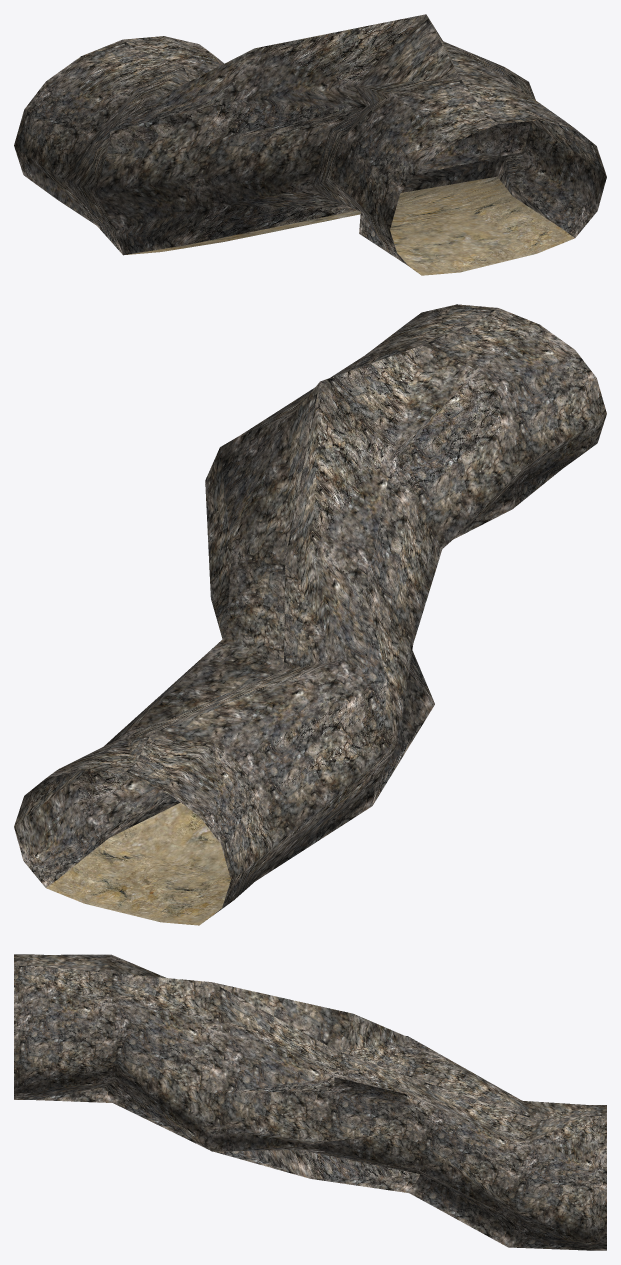
Rendered from pir_m_are_cav_hallNarrowAscend.fbx.
The picture shows the model from 3 angles, top to bottom: view 1: azimuth 30°, elevation 25°; view 2: azimuth 150°, elevation 25°; view 3: azimuth 270°, elevation 25°; orthographic projection. The views are drawn at different scales.
Visible parts, largest first — view 1: hallNarrowAscend_wall, hallNarrowAscend_floor; view 2: hallNarrowAscend_wall, hallNarrowAscend_floor; view 3: hallNarrowAscend_wall.
Part boxes in pixels (<box>): hallNarrowAscend_wall: <box>14,14,606,265</box>; hallNarrowAscend_floor: <box>126,176,574,275</box>; hallNarrowAscend_wall: <box>14,304,606,915</box>; hallNarrowAscend_floor: <box>46,802,230,925</box>; hallNarrowAscend_wall: <box>14,954,606,1250</box>.
Bounding box in the file's own units: 7353 × 7374 × 15000.
2 materials, 2 textured.
